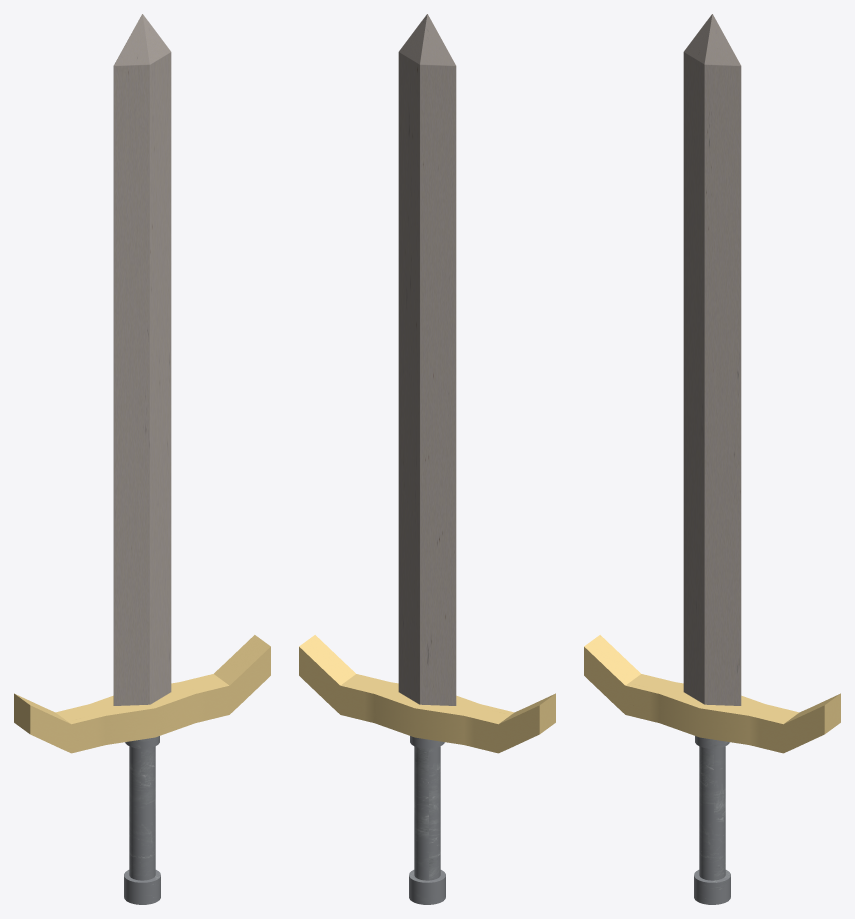
File: sword.fbx
The picture shows the model from 3 angles, left to right: view 1: azimuth 30°, elevation 25°; view 2: azimuth 150°, elevation 25°; view 3: azimuth 330°, elevation 25°; orthographic projection.
Parts seen in each view (by area): view 1: pCube1, pCube2, pCylinder1; view 2: pCube1, pCube2, pCylinder1; view 3: pCube1, pCube2, pCylinder1.
Part boxes in pixels (<box>): pCube1: <box>113,14,171,705</box>; pCube2: <box>14,635,270,753</box>; pCylinder1: <box>124,736,160,904</box>; pCube1: <box>398,14,456,705</box>; pCube2: <box>299,635,555,753</box>; pCylinder1: <box>409,736,445,904</box>; pCube1: <box>683,14,741,705</box>; pCube2: <box>584,635,840,753</box>; pCylinder1: <box>694,736,730,904</box>.
Size of the model in its own units: 1.24 by 4.36 by 0.2263.
